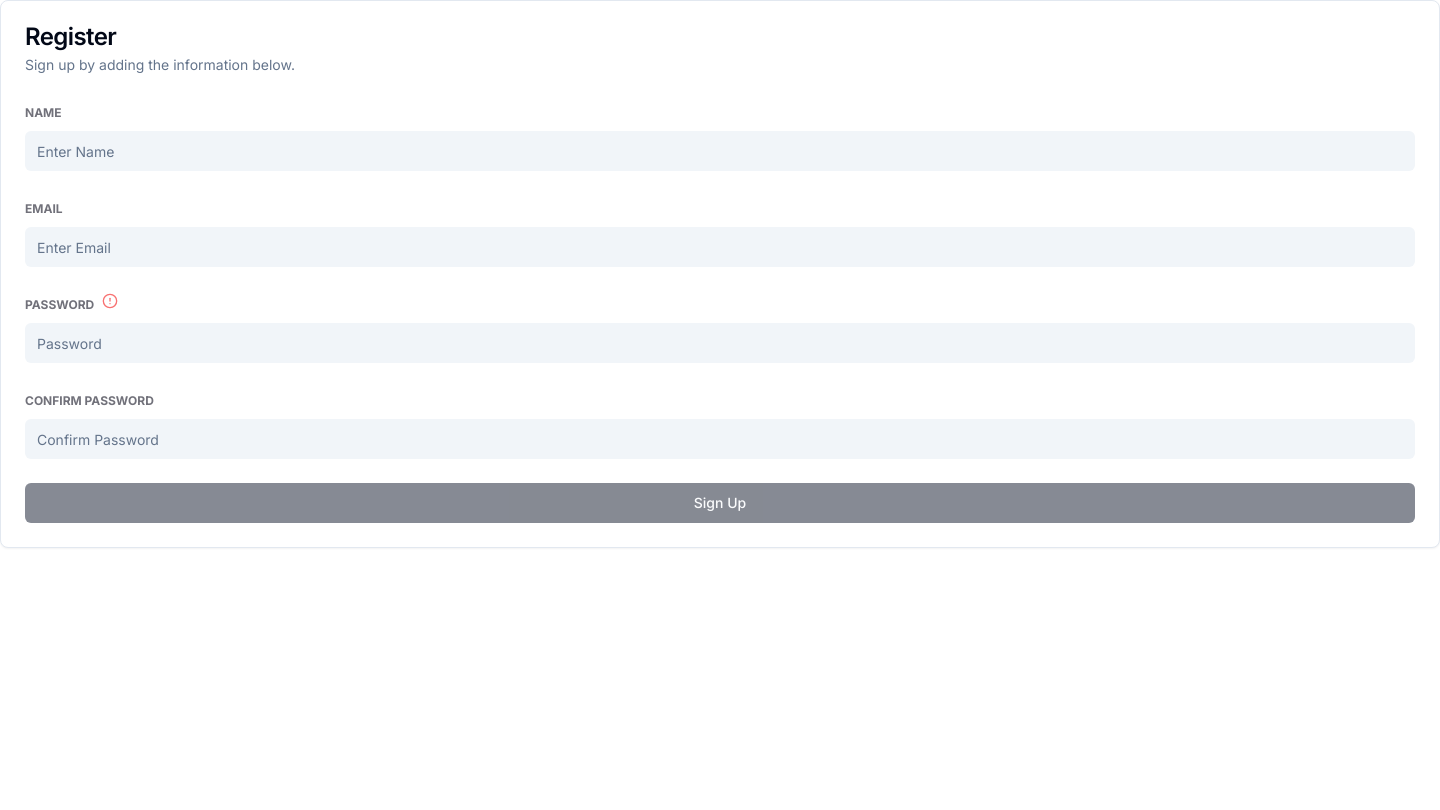
<RegisterForm /> › with invalid inputs › should display error messages
The width and height of the screenshot is (1440, 810).
Type "fake@email" into the field labelled "Email". click: (720, 247)
box: [25,227,1415,267]
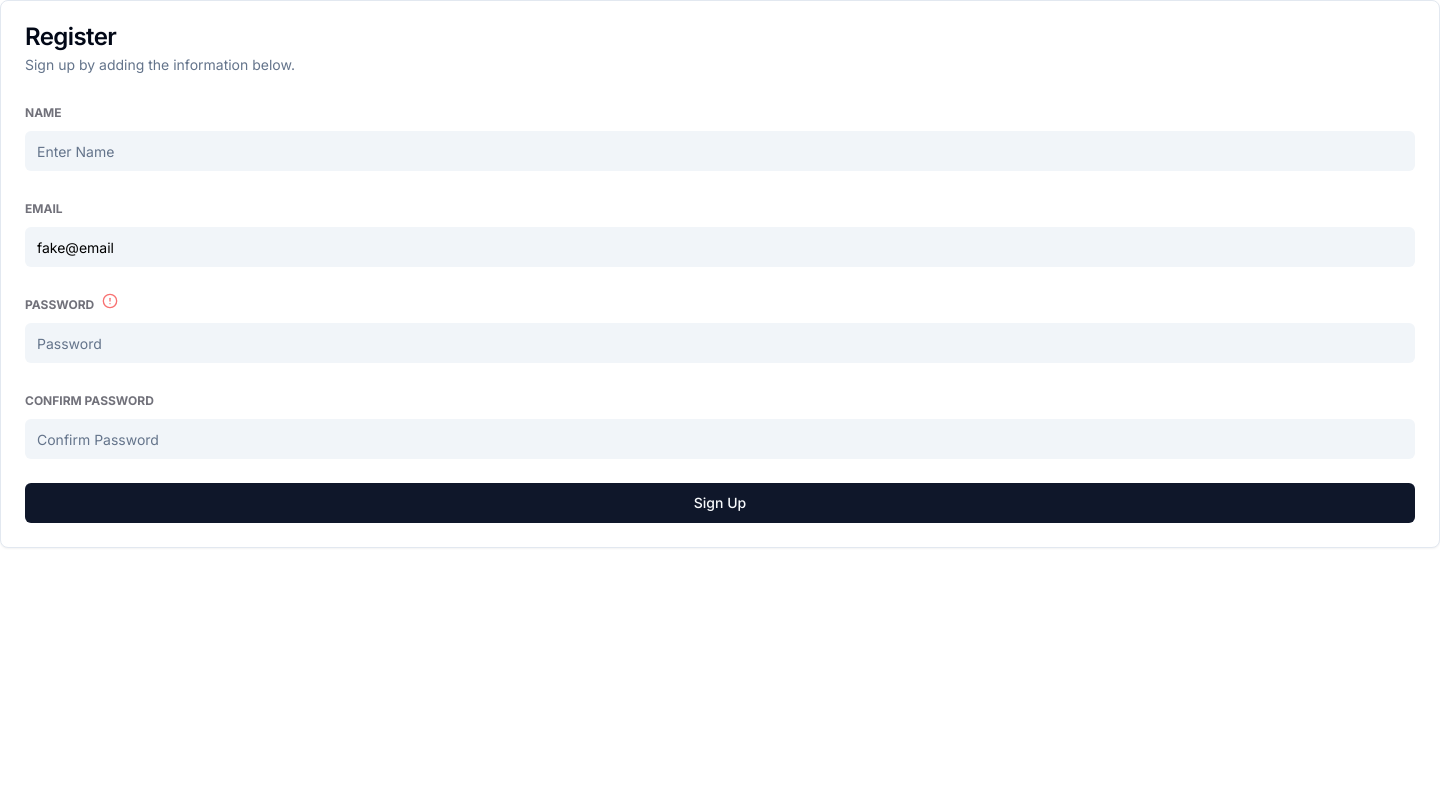
Click the button "Sign Up". click: click(720, 503)
box: [25,483,1415,523]
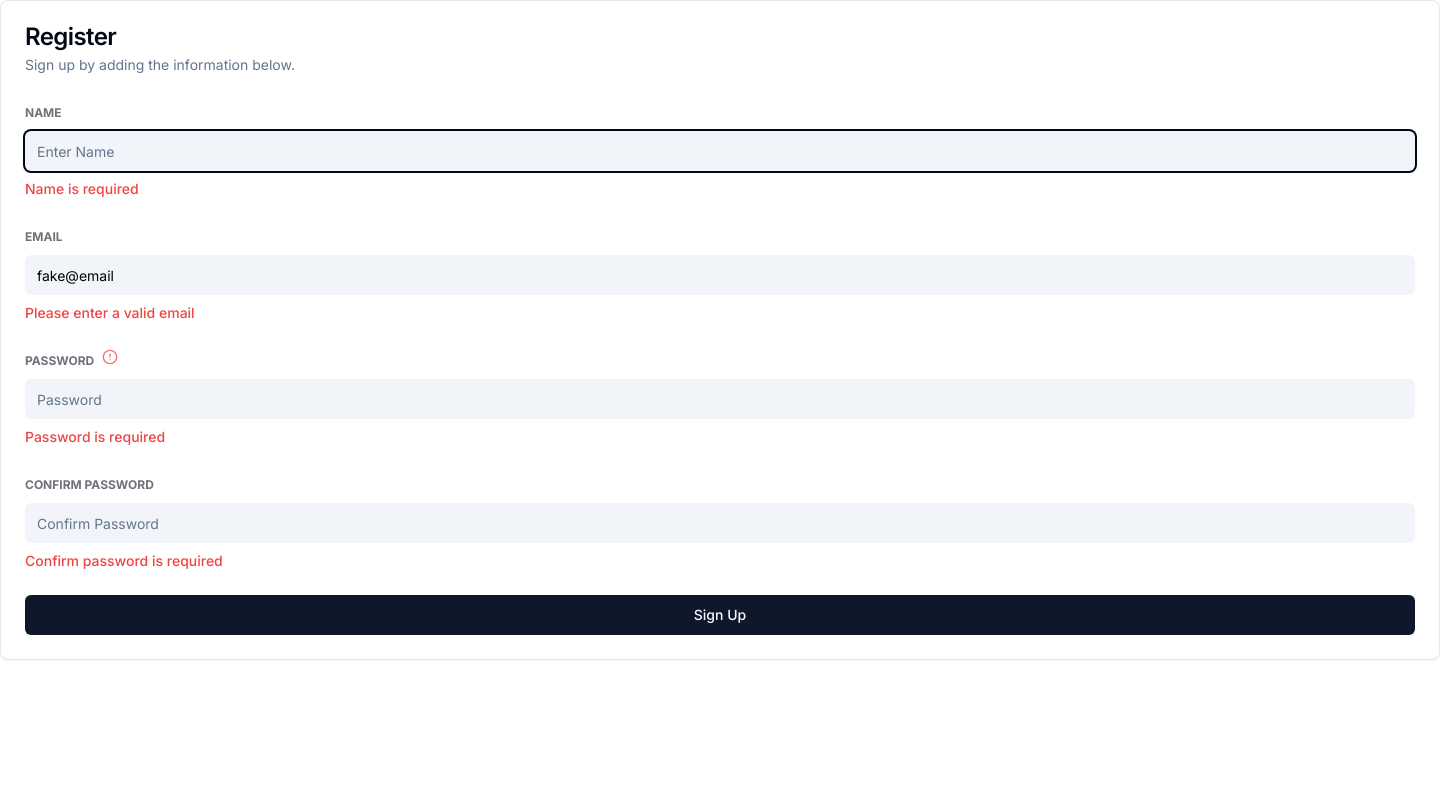
Expected: the text "Name is required" is shown, [25,180,139,197]
Expected: the text "Please enter a valid email" is shown, [25,304,195,321]
Expected: the text "Password is required" is shown, [25,428,165,445]
